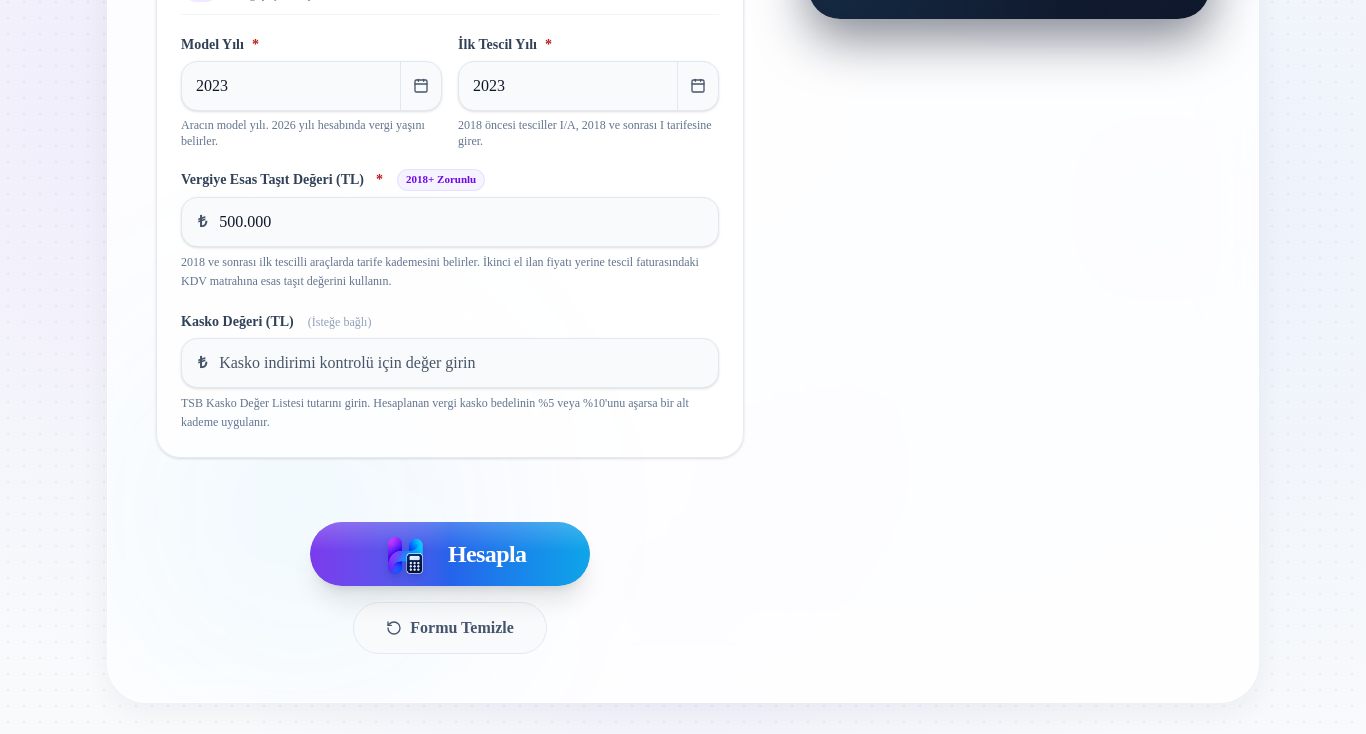
Test case: MTV Form Component (MtvForm) › 4. kasko değeri girilip kasko indirimi şartı oluştuğunda kasko indirim rozeti görünür
(page scrolled)
Type "50000" into the field labelled "Kasko Değeri (TL) (İsteğe bağlı)" at (465, 363), box [211,339,718,387]
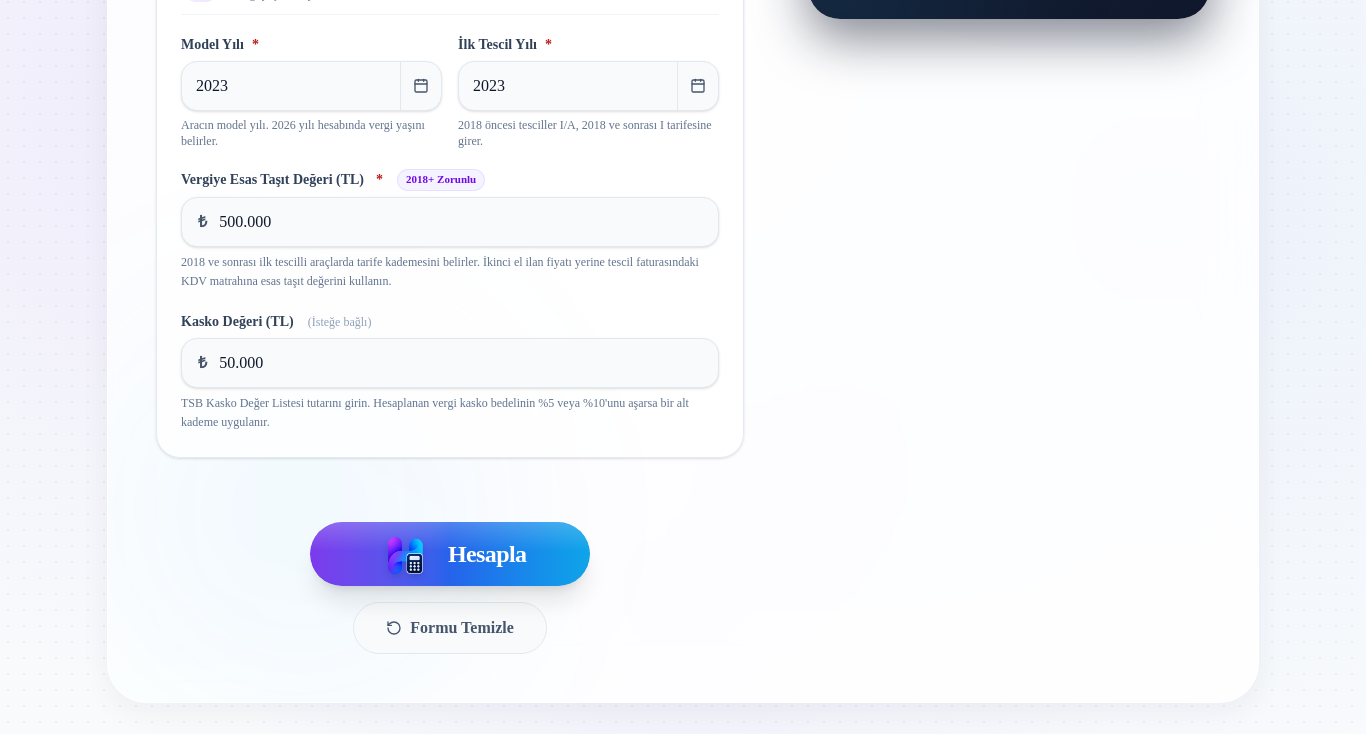
Click the button "Hesapla" at (450, 554), box [310,522,590,586]
(page scrolled)
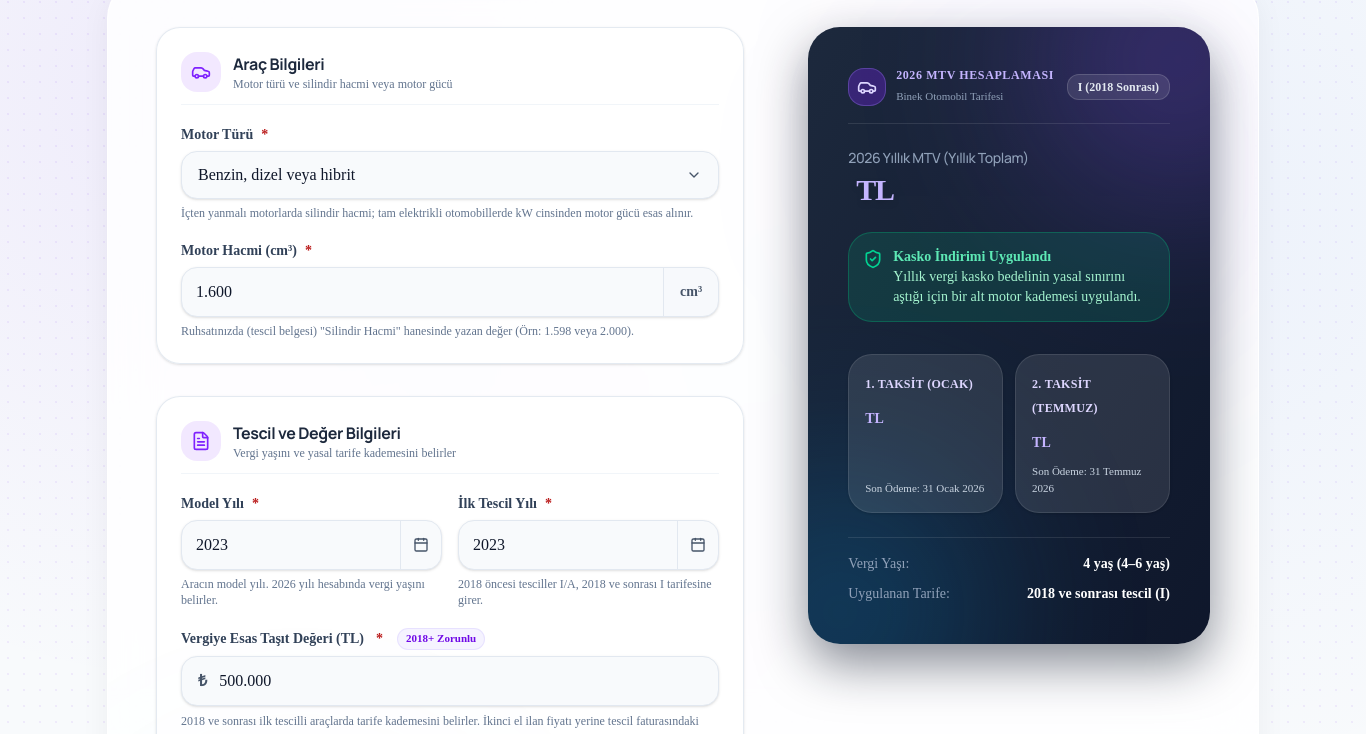
Check: the text "Kasko İndirimi Uygulandı" is shown, box [893,249,1051,264]
